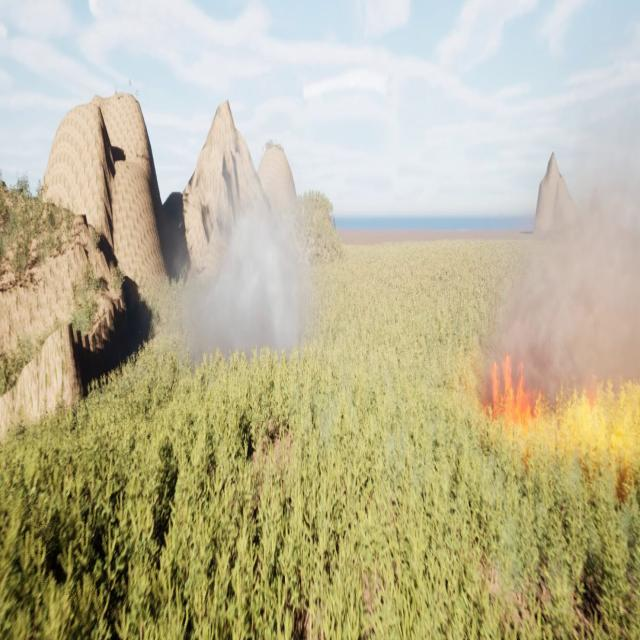fire: (487, 352, 536, 417)
smoke: (478, 170, 639, 416), (176, 186, 319, 372)
